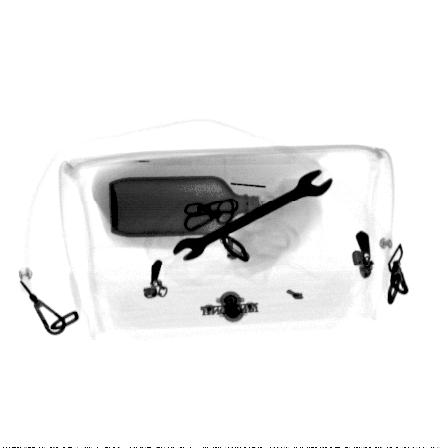Wrench: (172, 168, 334, 261)
